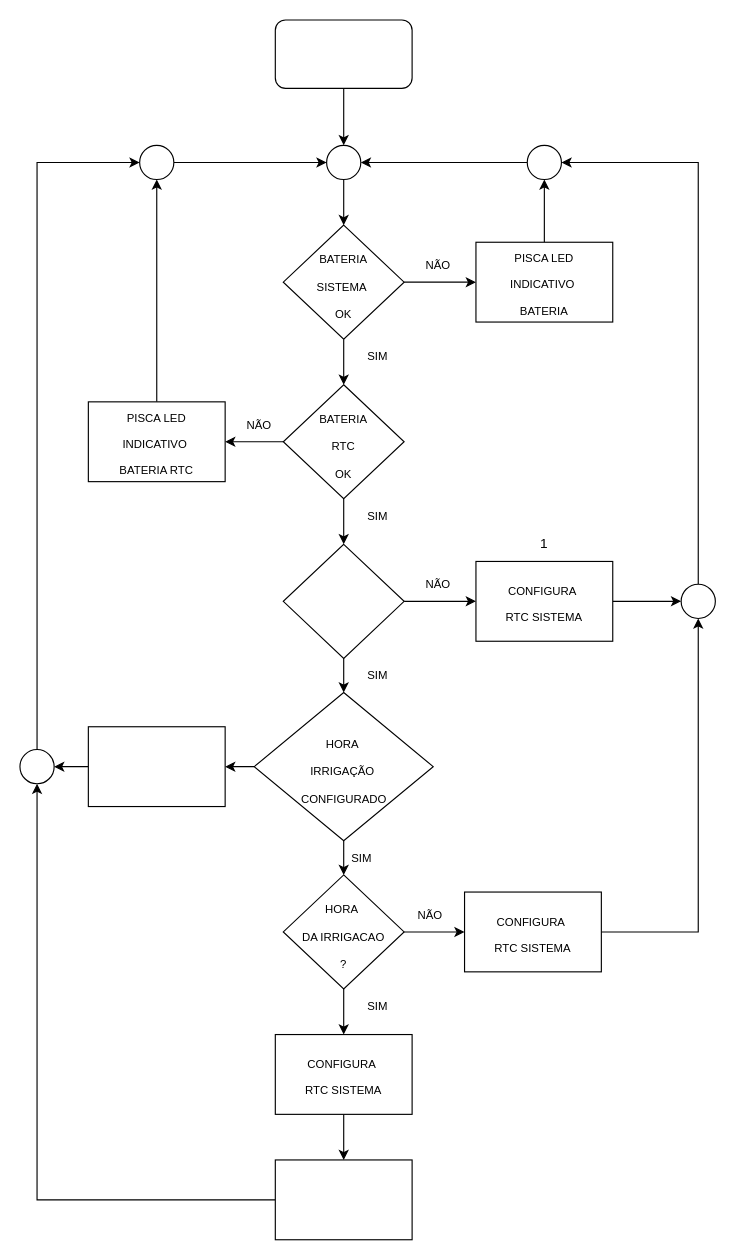
Some shapes in this 735 by 1260 pixel diagram are drawn without their labels. Here are the shapes that lost their labels. From the top down, the box of each, then its label:
(274, 19, 412, 88): INICIO
(282, 543, 404, 658): HORA SISTEMA OK
(87, 726, 225, 807): CONFIGURA HORAS DA IRRIGAÇÃ
(274, 1159, 412, 1240): SLEEP
